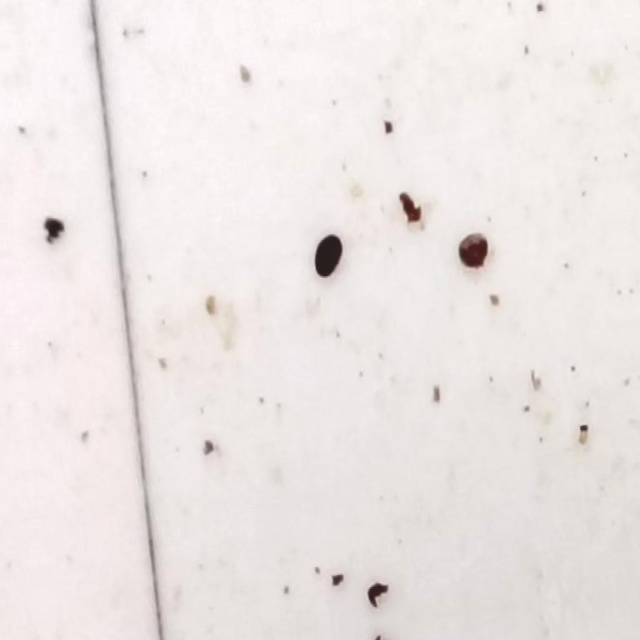varroa: (310, 227, 349, 279), (456, 226, 495, 271)
